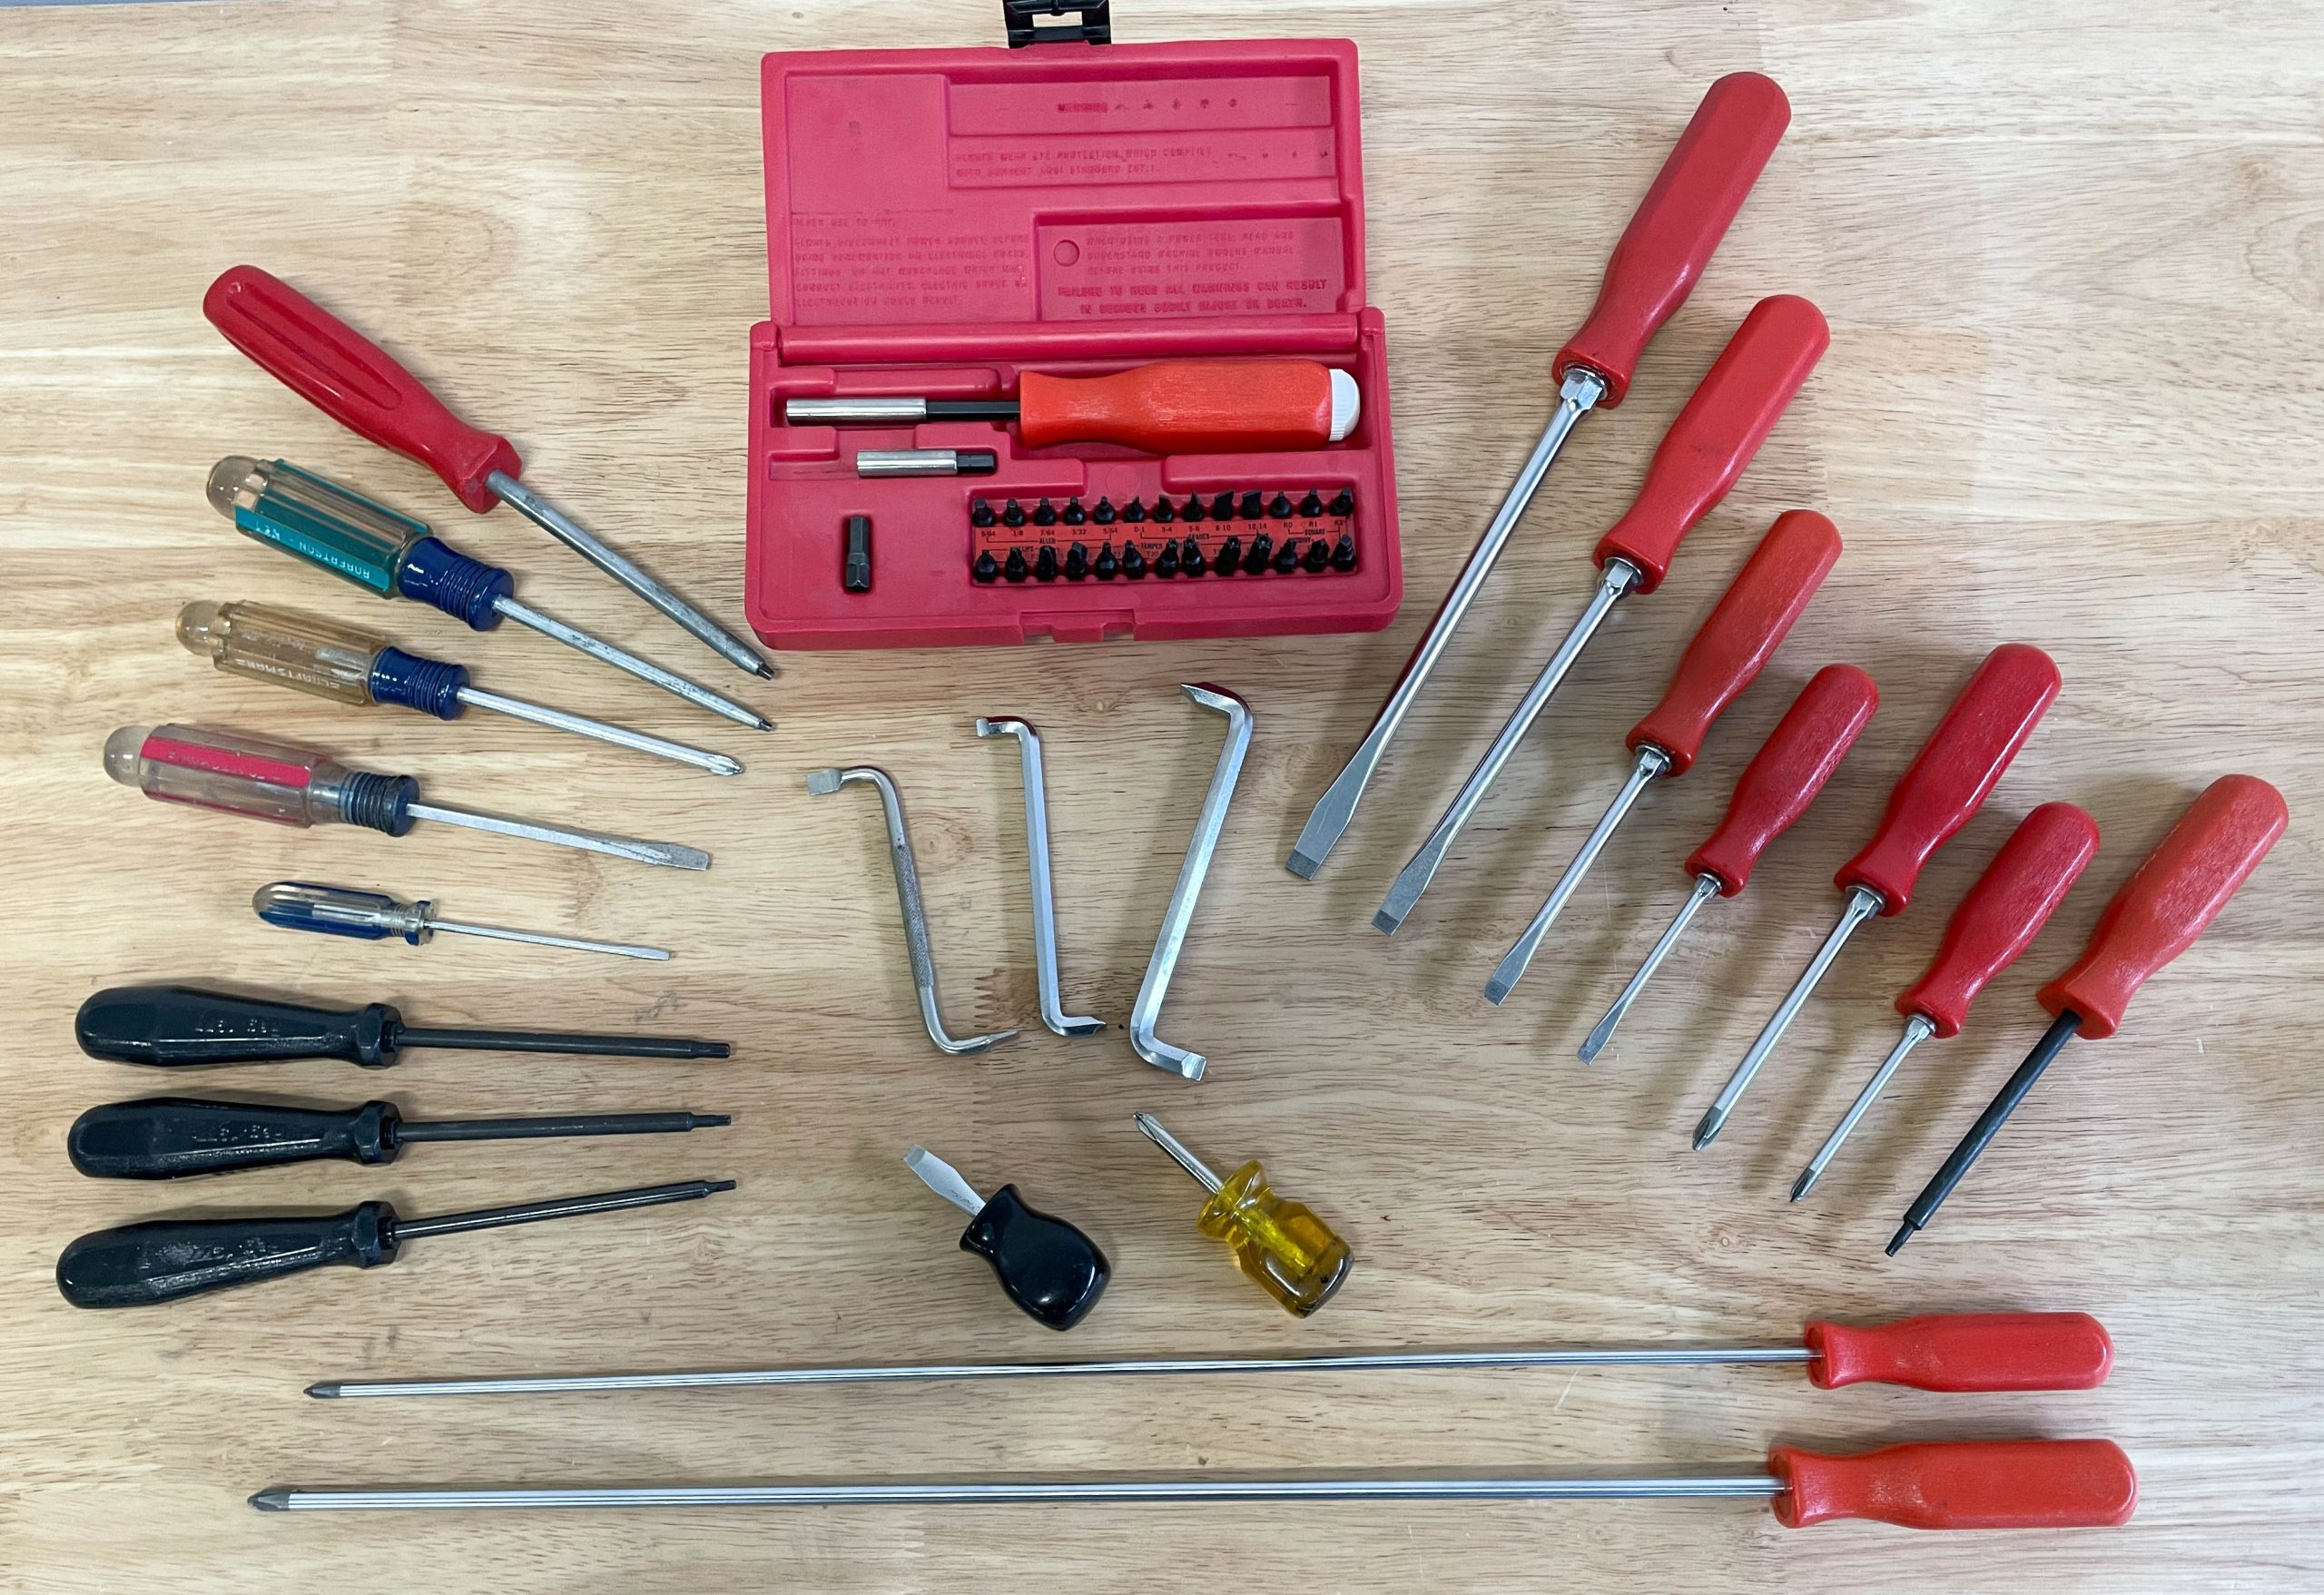screwdriver: (1282, 67, 1798, 885), (1367, 290, 1831, 940), (201, 254, 772, 682), (247, 1424, 2144, 1540), (1884, 767, 2296, 1256), (1686, 639, 2061, 1150), (1483, 505, 1842, 1010), (200, 447, 782, 740), (302, 1309, 2130, 1401), (1785, 795, 2110, 1208), (1575, 661, 1881, 1063), (97, 703, 721, 896), (178, 593, 743, 784), (53, 1169, 743, 1307), (64, 982, 756, 1092), (64, 1086, 758, 1183), (1136, 1115, 1370, 1339), (772, 367, 1376, 454), (249, 871, 682, 986), (892, 1138, 1120, 1334)
